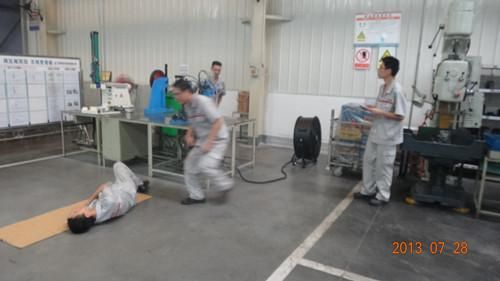fall: (64, 153, 155, 237)
